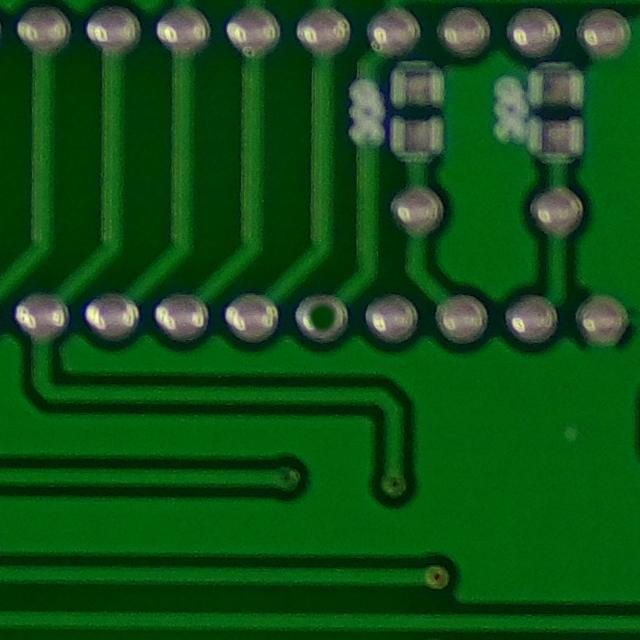missing_hole: (287, 285, 354, 355)
